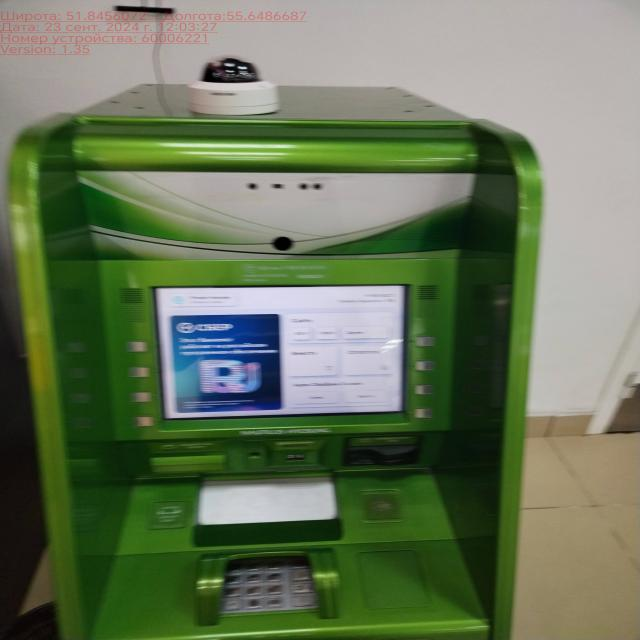bank: (13, 80, 546, 640)
